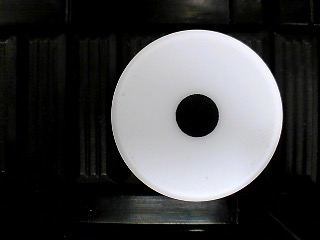BOHO: (110, 28, 284, 202)
